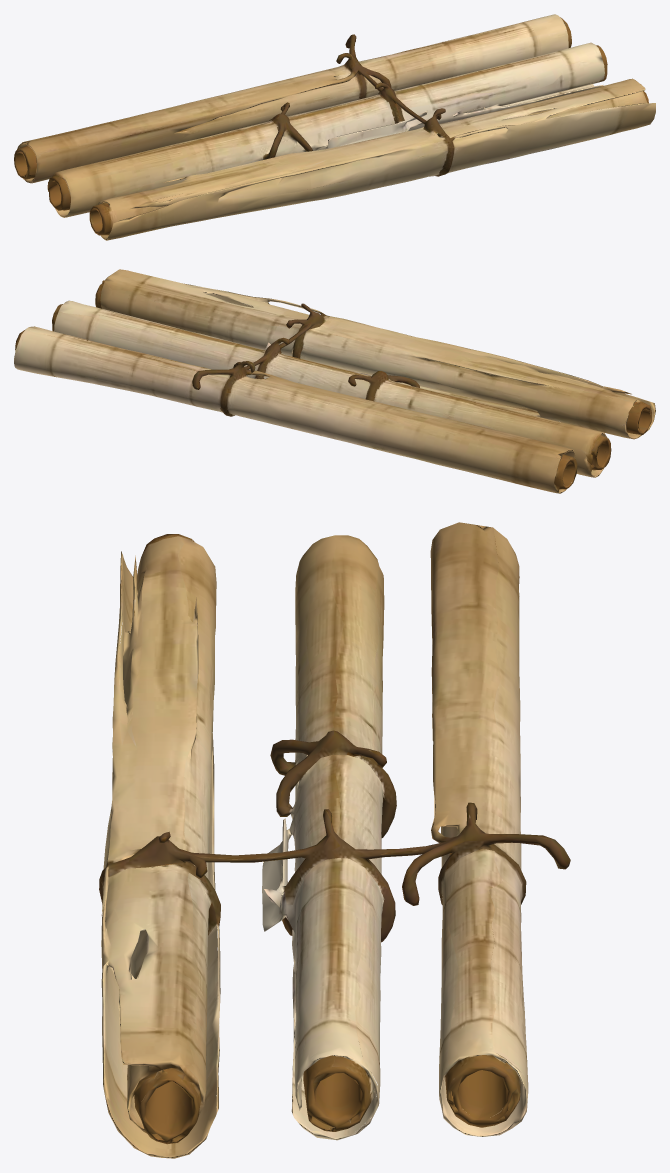
The model's file is rollos_planos.glb.
The picture shows the model from 3 angles, top to bottom: view 1: azimuth 30°, elevation 25°; view 2: azimuth 150°, elevation 25°; view 3: azimuth 270°, elevation 25°; orthographic projection. The views are drawn at different scales.
Visible parts, largest first — view 1: geometry_0; view 2: geometry_0; view 3: geometry_0.
Part boxes in pixels (x1=…): geometry_0: x1=14, y1=14, x2=655, y2=240; geometry_0: x1=14, y1=269, x2=655, y2=493; geometry_0: x1=99, y1=522, x2=570, y2=1158.
Size of the model in its own units: 0.8 by 0.1 by 0.3.
Materials: 1 (1 with a texture image).
